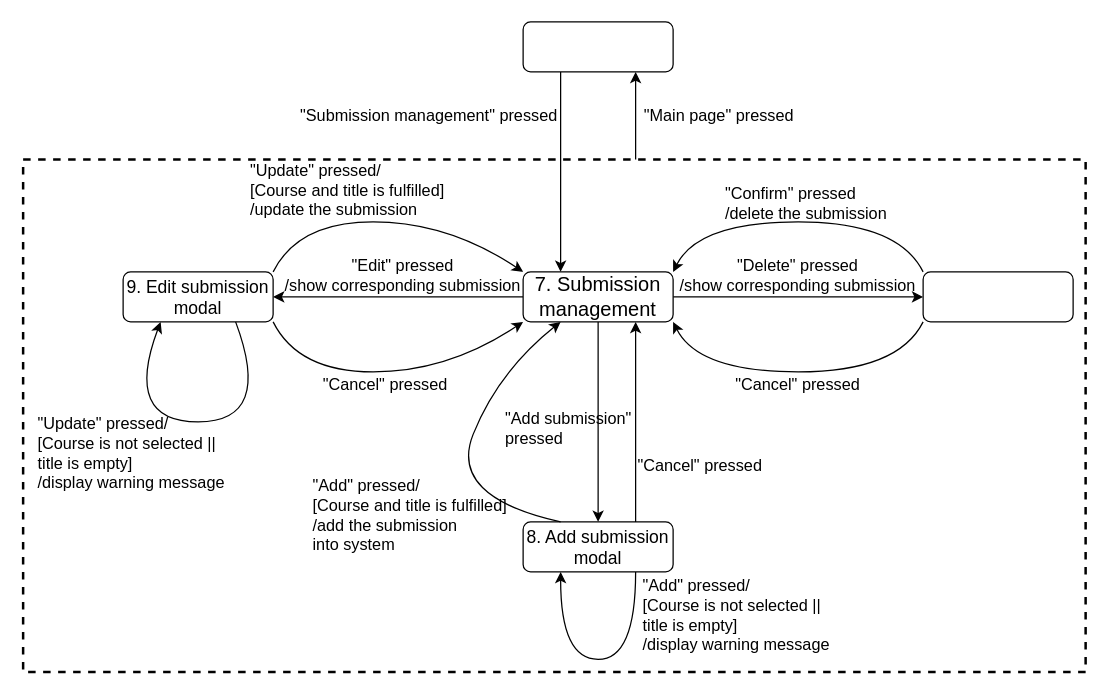
The diagram is 1108 pixels wide and 695 high, and some of its shapes have lost their labels. The centre of each missing label's shape, as x and y in pixels:
10. Deletion confirmation: (997,296)
3. Teacher main page: (597,46)
